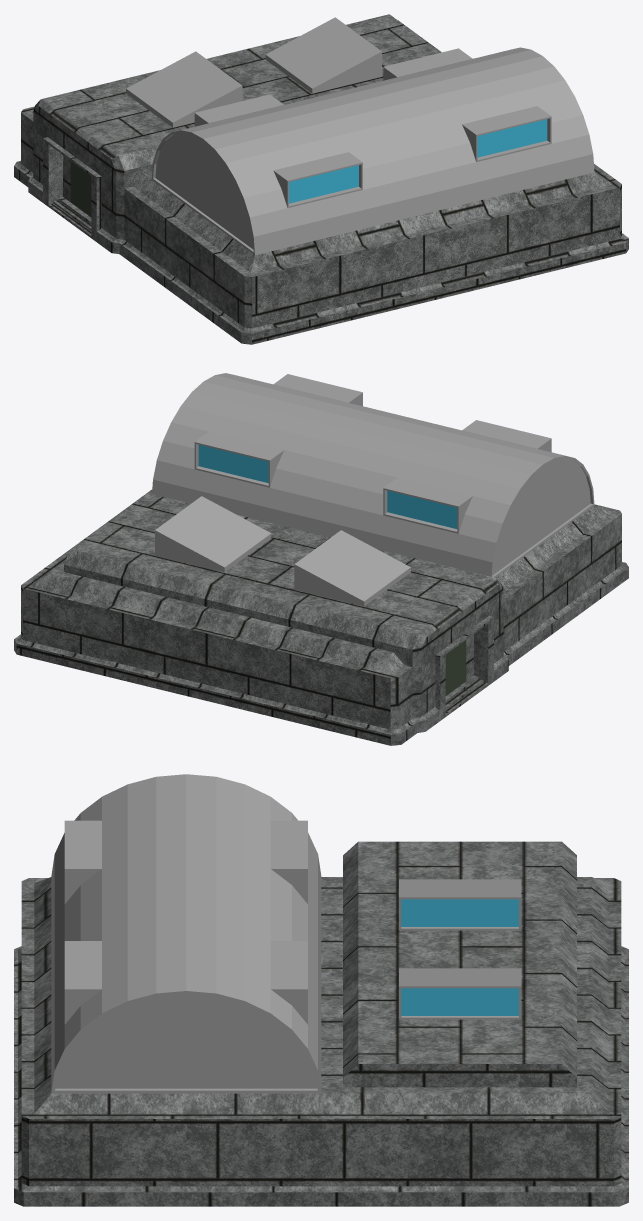
The model's file is barracks.glb.
3 renders of one model, top to bottom at view 1: azimuth 30°, elevation 25°; view 2: azimuth 150°, elevation 25°; view 3: azimuth 270°, elevation 25°, orthographic. The views are drawn at different scales.
Visible parts, largest first — view 1: Barracks; view 2: Barracks; view 3: Barracks.
Boxes of the visible parts, <box> form: Barracks: <box>14,14,628,344</box>; Barracks: <box>14,373,628,745</box>; Barracks: <box>14,774,628,1206</box>.
Bounding box in the file's own units: 8.1 × 3.03 × 8.41.
4 materials, 1 textured.
